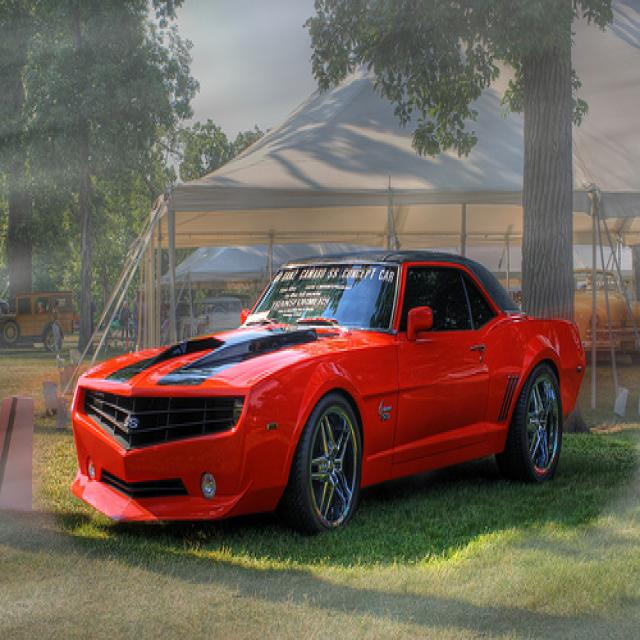Car: (69, 240, 590, 543)
